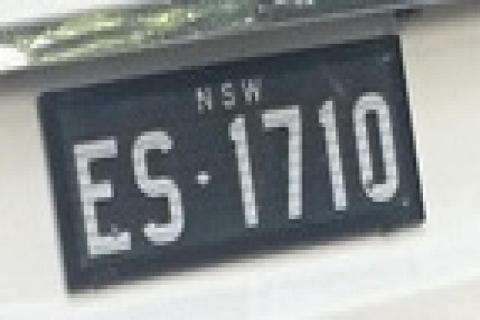LicensePlate: (29, 24, 434, 300)
